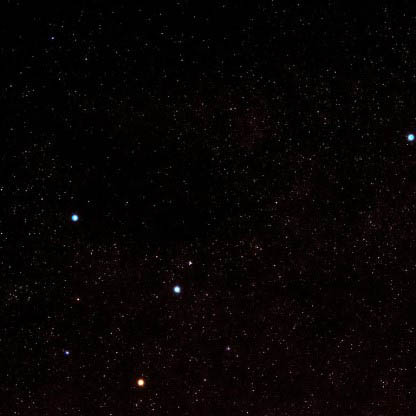Southern Cross: (159, 277, 197, 309), (125, 368, 157, 397), (64, 207, 82, 232), (61, 340, 78, 360)
